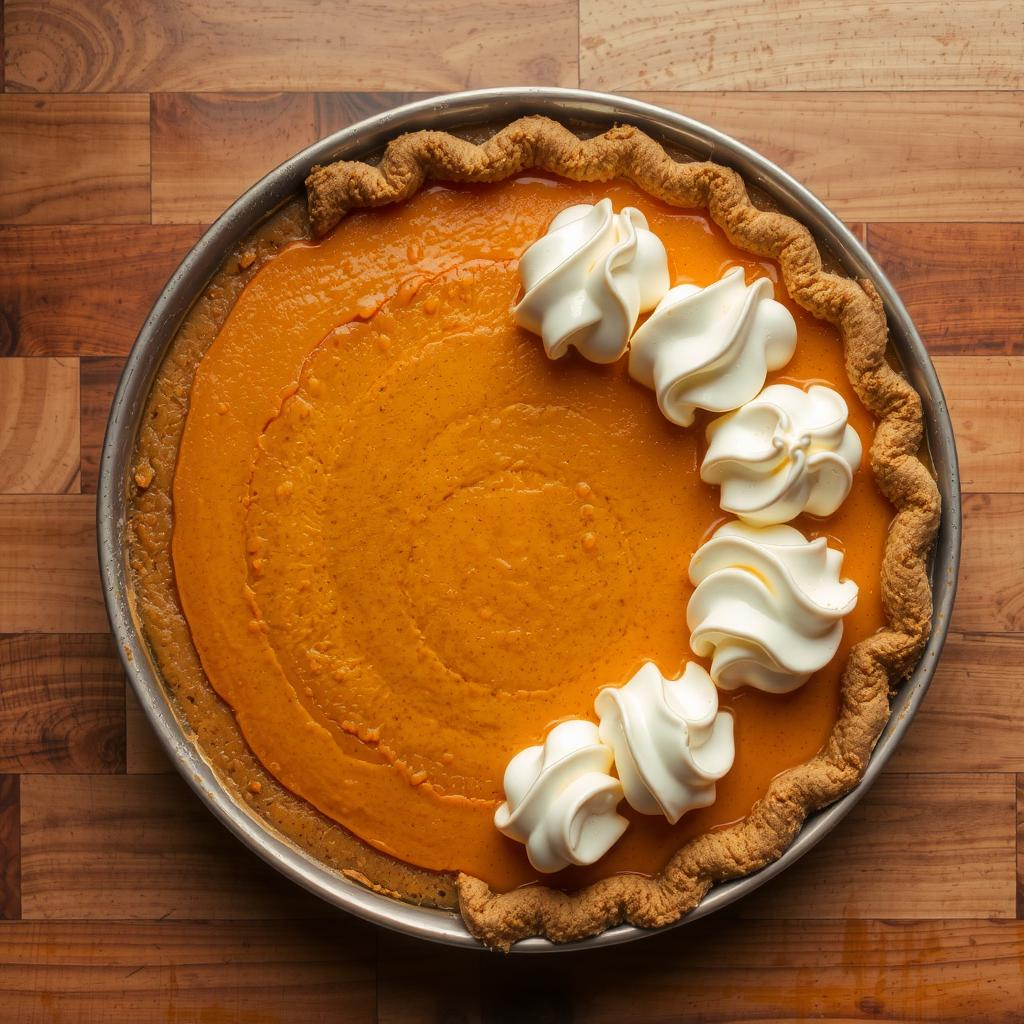pie: (116, 111, 951, 963)
